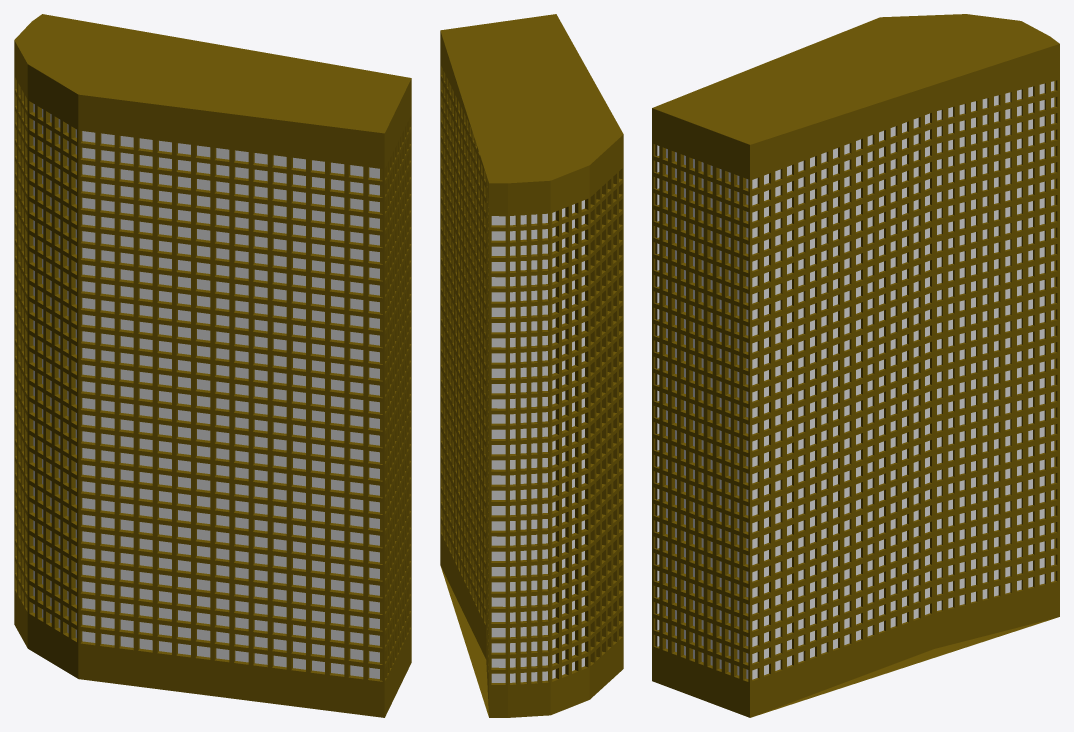
File: 6WestminsterRoad.fbx
3 renders of one model, left to right at view 1: azimuth 30°, elevation 25°; view 2: azimuth 150°, elevation 25°; view 3: azimuth 270°, elevation 25°, orthographic. The views are drawn at different scales.
Visible parts, largest first — view 1: 6 WestminsterRoad; view 2: 6 WestminsterRoad; view 3: 6 WestminsterRoad.
Boxes of the visible parts, <box> form: 6 WestminsterRoad: <box>14,14,411,717</box>; 6 WestminsterRoad: <box>440,14,623,717</box>; 6 WestminsterRoad: <box>652,14,1059,717</box>.
Size of what is drawn, in the model's own units: 4704 by 9600 by 6194.
